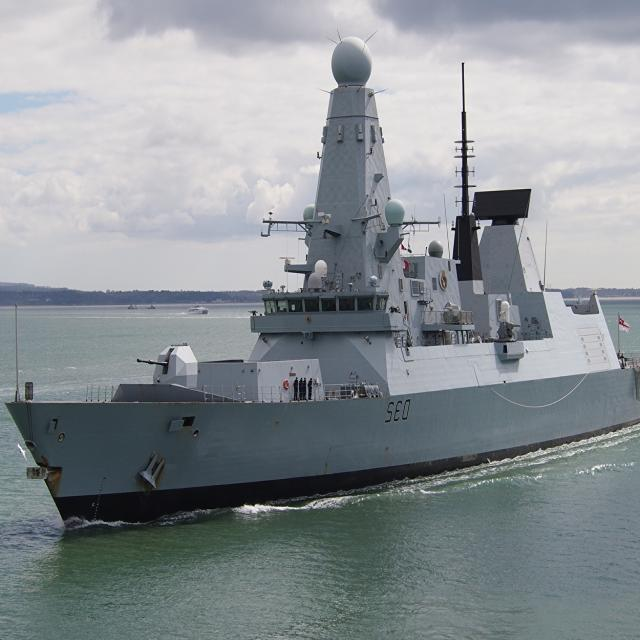navalvessels: (9, 42, 640, 534)
